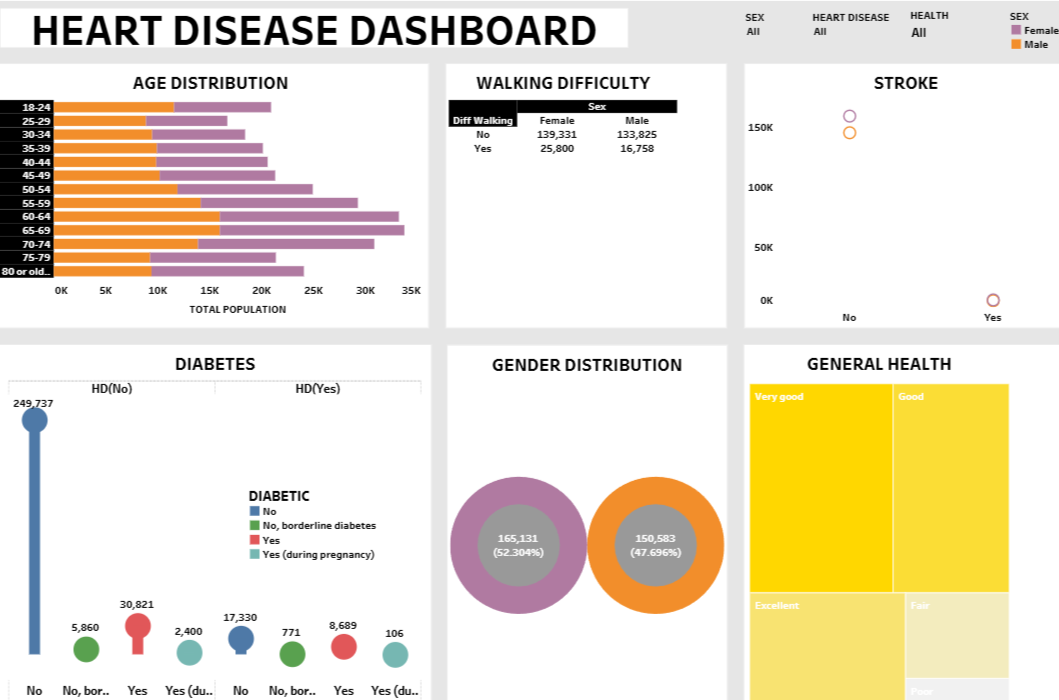

What the dashboard file says about the page in this screenshot:
{"tool":"tableau","page":{"name":"final_dashboard","canvas":[1580,1050],"ordinal":0},"visuals":[{"type":"text","box":[3,1,938,77]},{"type":"filter","title":"general_health","param":"[federated.0559ulz0tgc5rk1f2alr51hb8lu5].[none:GenHealth:nk]","box":[1344,10,92,54]},{"type":"legend","title":"stroke","param":"[federated.0559ulz0tgc5rk1f2alr51hb8lu5].[none:Sex:nk]","box":[1489,10,89,64]},{"type":"filter","title":"Age Distribution","param":"[federated.0559ulz0tgc5rk1f2alr51hb8lu5].[none:Sex:nk]","box":[1103,12,91,57]},{"type":"filter","title":"Age Distribution","param":"[federated.0559ulz0tgc5rk1f2alr51hb8lu5].[none:HeartDisease:nk]","box":[1201,12,136,56]},{"type":"worksheet","title":"walking","mark":"Square","rows":["DiffWalking"],"cols":["Sex"],"box":[654,81,432,408]},{"type":"worksheet","title":"stroke","mark":"Shape","rows":["newdf.csv_C3C46B07D3AA4CA8AC7D3D471FF3C3F4"],"cols":["Stroke"],"box":[1091,81,494,408]},{"type":"worksheet","title":"diabetes","mark":"Automatic","rows":["newdf.csv_C3C46B07D3AA4CA8AC7D3D471FF3C3F4","newdf.csv_C3C46B07D3AA4CA8AC7D3D471FF3C3F4"],"cols":["HeartDisease","Diabetic"],"box":[0,492,654,557]},{"type":"worksheet","title":"general_health","mark":"Automatic","box":[1090,492,493,558]},{"type":"worksheet","title":"gender_distribution","mark":"Pie","rows":["Calculation_1824239341919064065","Calculation_1824239341919064065"],"cols":["Sex"],"box":[656,493,431,558]},{"type":"legend","title":"diabetes","param":"[federated.0559ulz0tgc5rk1f2alr51hb8lu5].[none:Diabetic:nk]","box":[375,708,236,135]}]}

Visuals, with their boxes in screenshot pixels (x1, y1, x2, y2), scaled from the page's 1580x1050 canvas onto the 1059x700 screenshot:
text: locate(2, 1, 631, 52)
"general_health" filter: locate(901, 7, 962, 43)
"stroke" legend: locate(998, 7, 1058, 49)
"Age Distribution" filter: locate(739, 8, 800, 46)
"Age Distribution" filter: locate(805, 8, 896, 45)
"walking" worksheet (Square marks): locate(438, 54, 728, 326)
"stroke" worksheet (Shape marks): locate(731, 54, 1058, 326)
"diabetes" worksheet: locate(0, 328, 438, 699)
"general_health" worksheet: locate(731, 328, 1058, 699)
"gender_distribution" worksheet (Pie marks): locate(440, 329, 729, 699)
"diabetes" legend: locate(251, 472, 410, 562)
